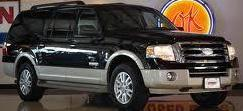front_view: (143, 38, 235, 93)
headlight: (144, 41, 182, 65)
side_glass: (42, 15, 109, 47)
